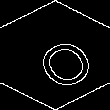O_NW: (19, 22, 91, 88)
